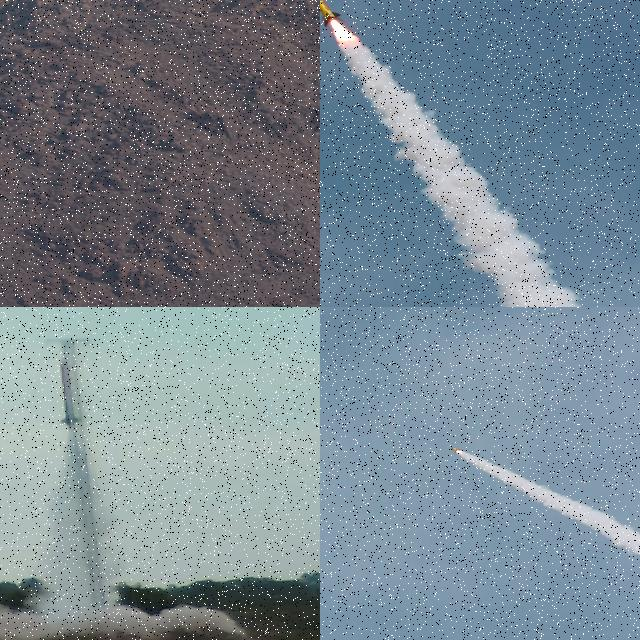Rocket: (58, 358, 82, 428), (320, 0, 345, 27), (451, 448, 461, 453)
